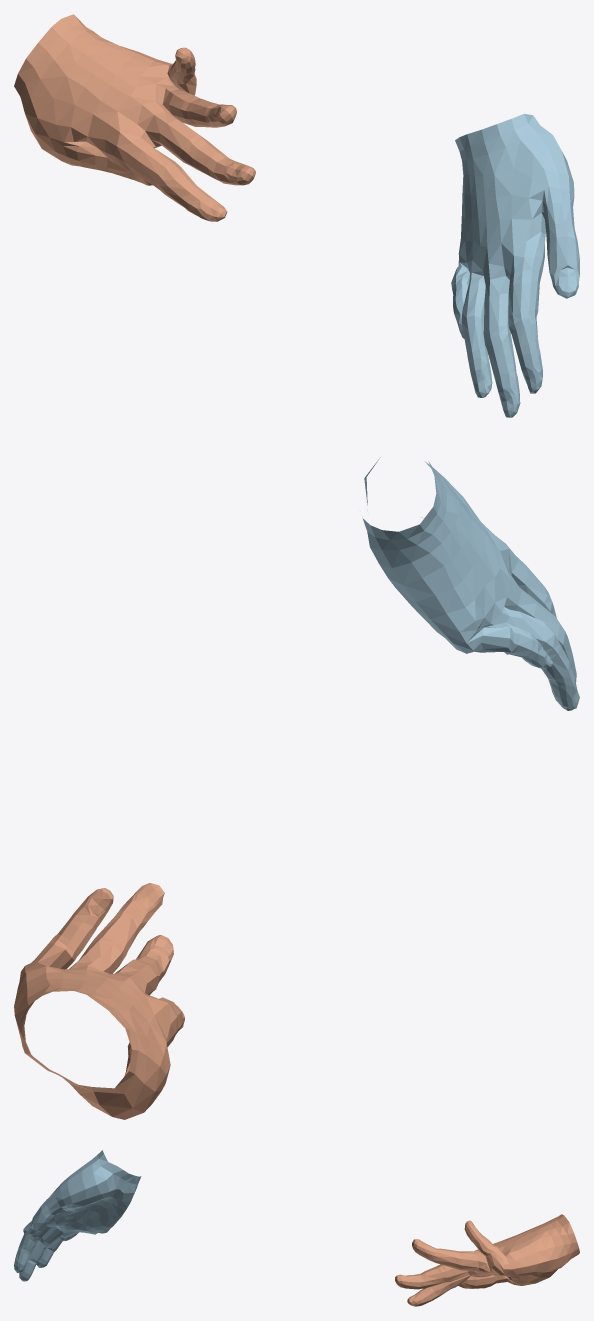
File: frame_025.glb
3 renders of one model, top to bottom at view 1: azimuth 30°, elevation 25°; view 2: azimuth 150°, elevation 25°; view 3: azimuth 270°, elevation 25°, orthographic. The views are drawn at different scales.
Visible parts, largest first — view 1: world; view 2: world; view 3: world.
Part boxes in pixels (x1,y1,x2,y2): world: (14, 14, 579, 417); world: (14, 457, 579, 1119); world: (14, 1150, 579, 1306).
Bounding box in the file's own units: 0.1196 × 0.1754 × 0.523.
